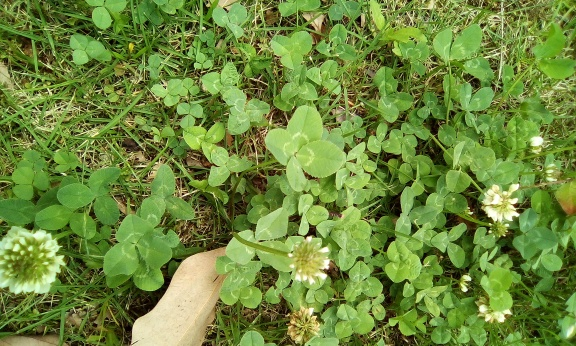4leaf: (264, 104, 345, 193)
